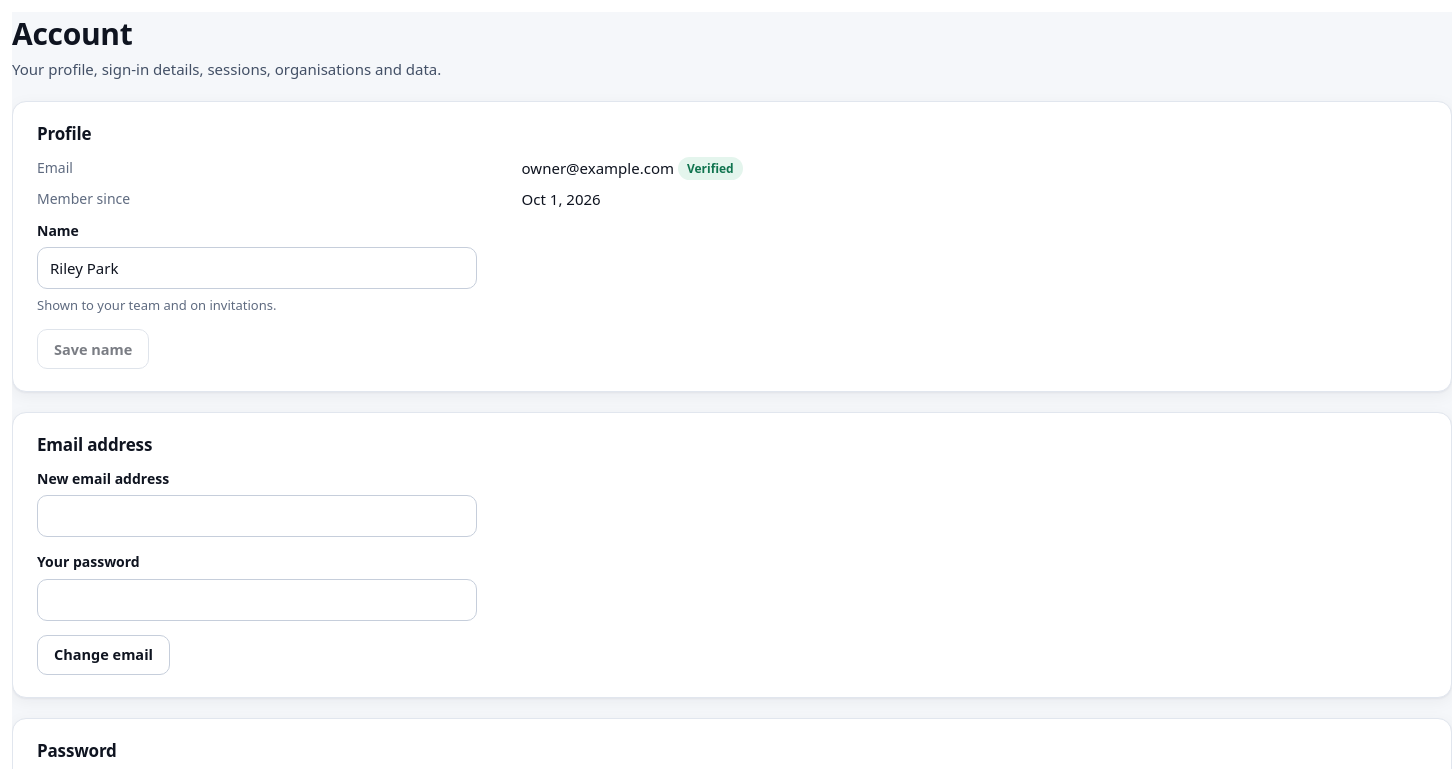
it: account management › changes the email address only after confirmation from the new address; explains a wrong password
The image size is (1452, 769).
Type "owner@example.com" into the field labelled "New email address" at coordinates (257, 516), box [37,496,477,538]
Type "x" into the password field labelled "Your password" at coordinates (257, 600), box [37,579,477,621]
Click the button "Change email" at coordinates (104, 655), box [37,635,170,675]
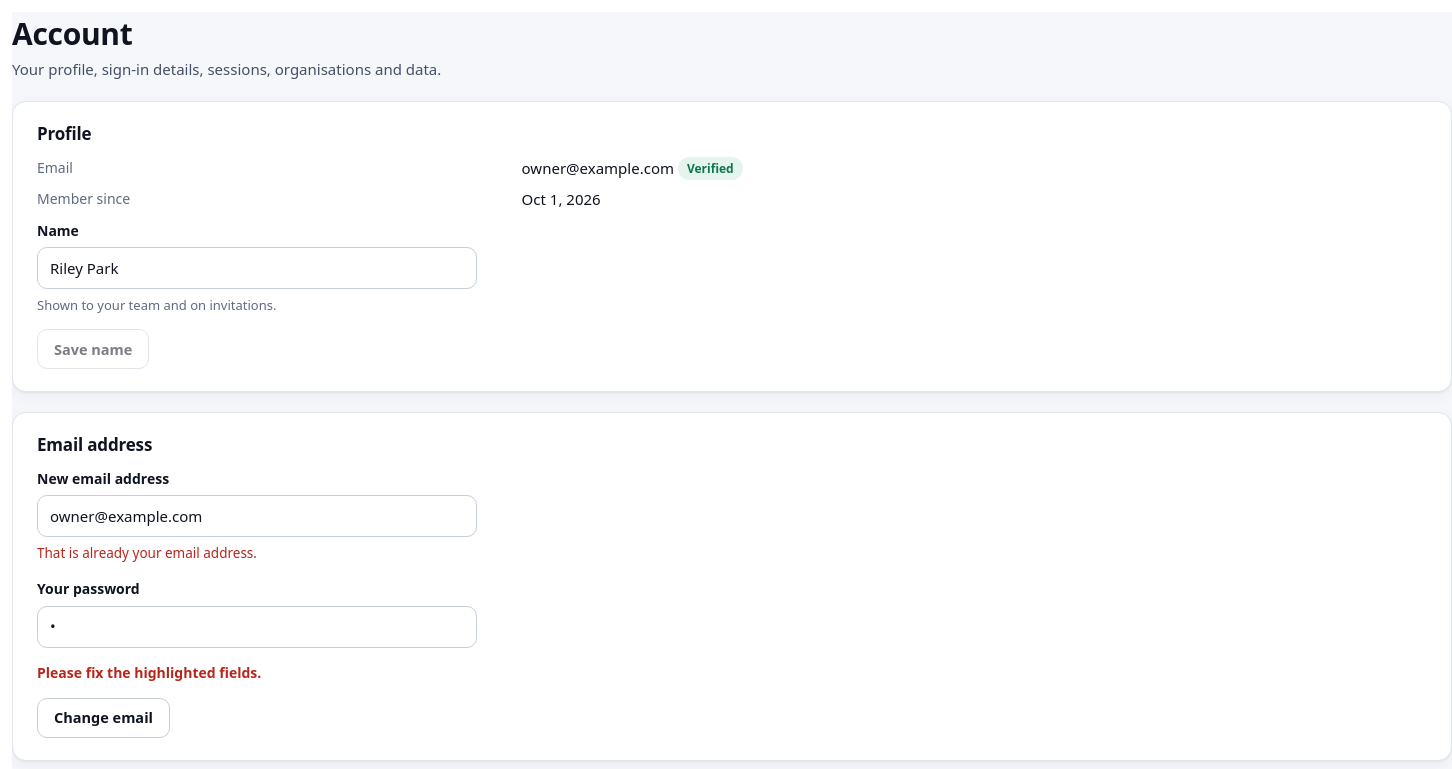
expect the text "That is already your email address." is shown: met, box [37,544,257,562]
Replace the text in the field labelled "New email address" with "riley@studio.example" at coordinates (257, 516), box [37,496,477,538]
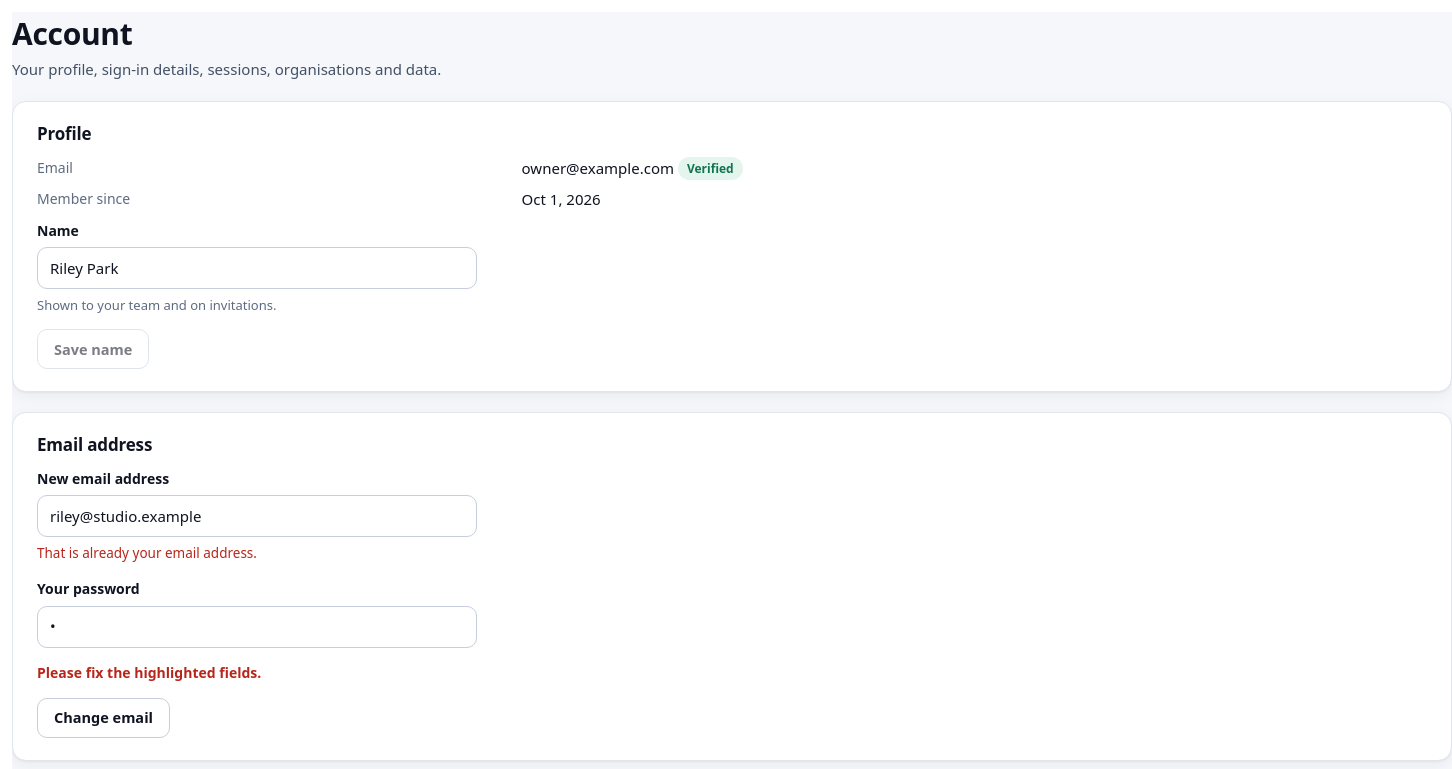
Type "not my password" into the password field labelled "Your password" at coordinates (257, 627), box [37,606,477,648]
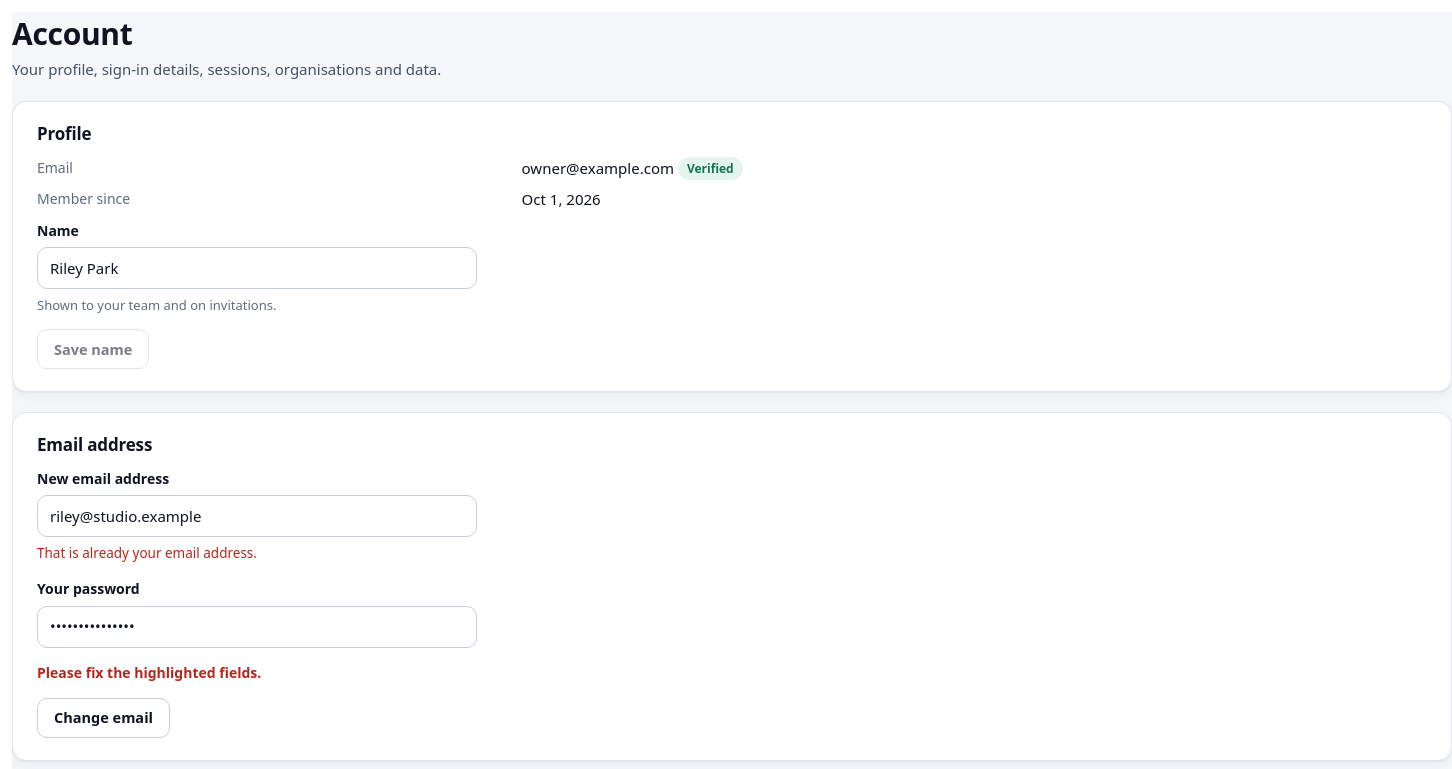
Click the button "Change email" at coordinates (104, 718), box [37,698,170,738]
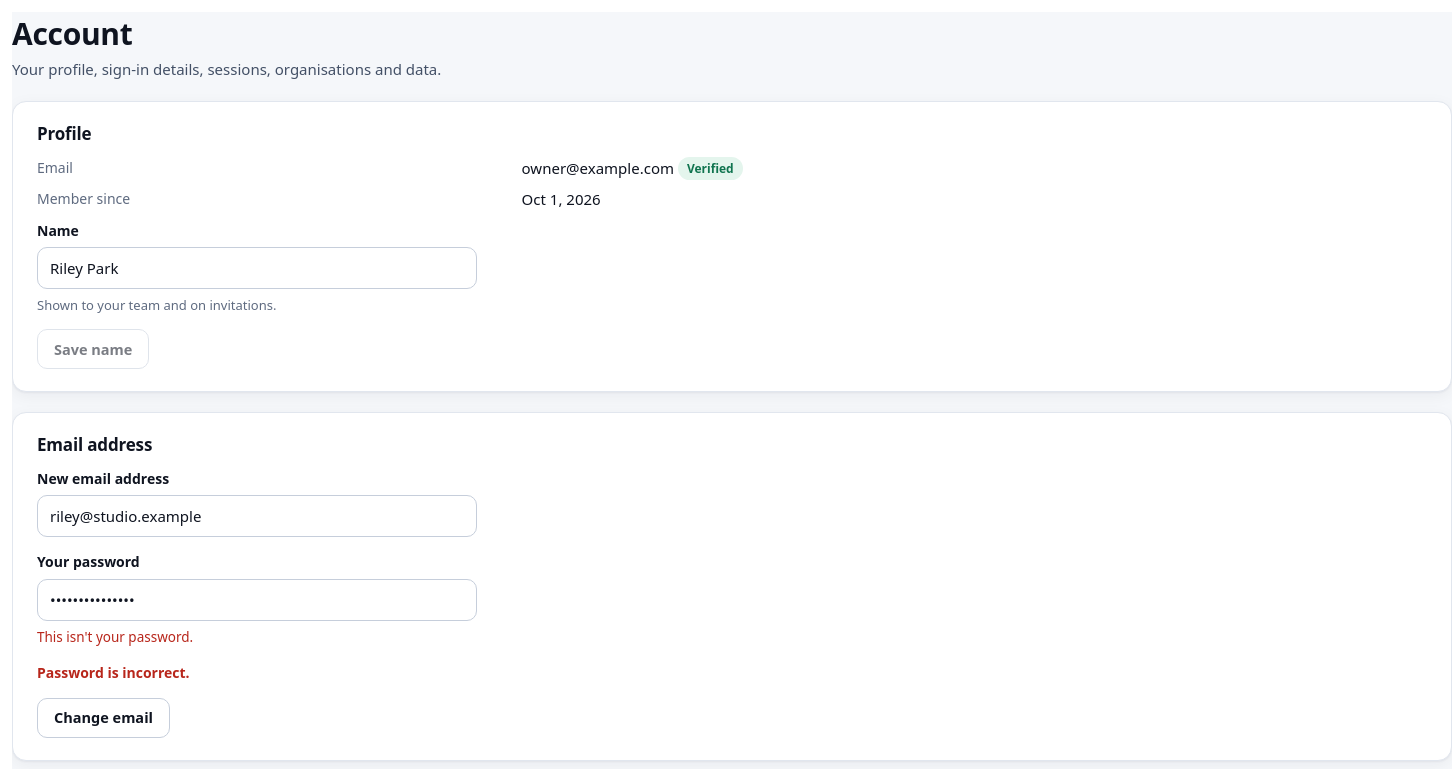
expect the text "This isn't your password." is shown: met, box [37,628,193,646]
Type "correct horse battery" into the password field labelled "Your password" at coordinates (257, 600), box [37,579,477,621]
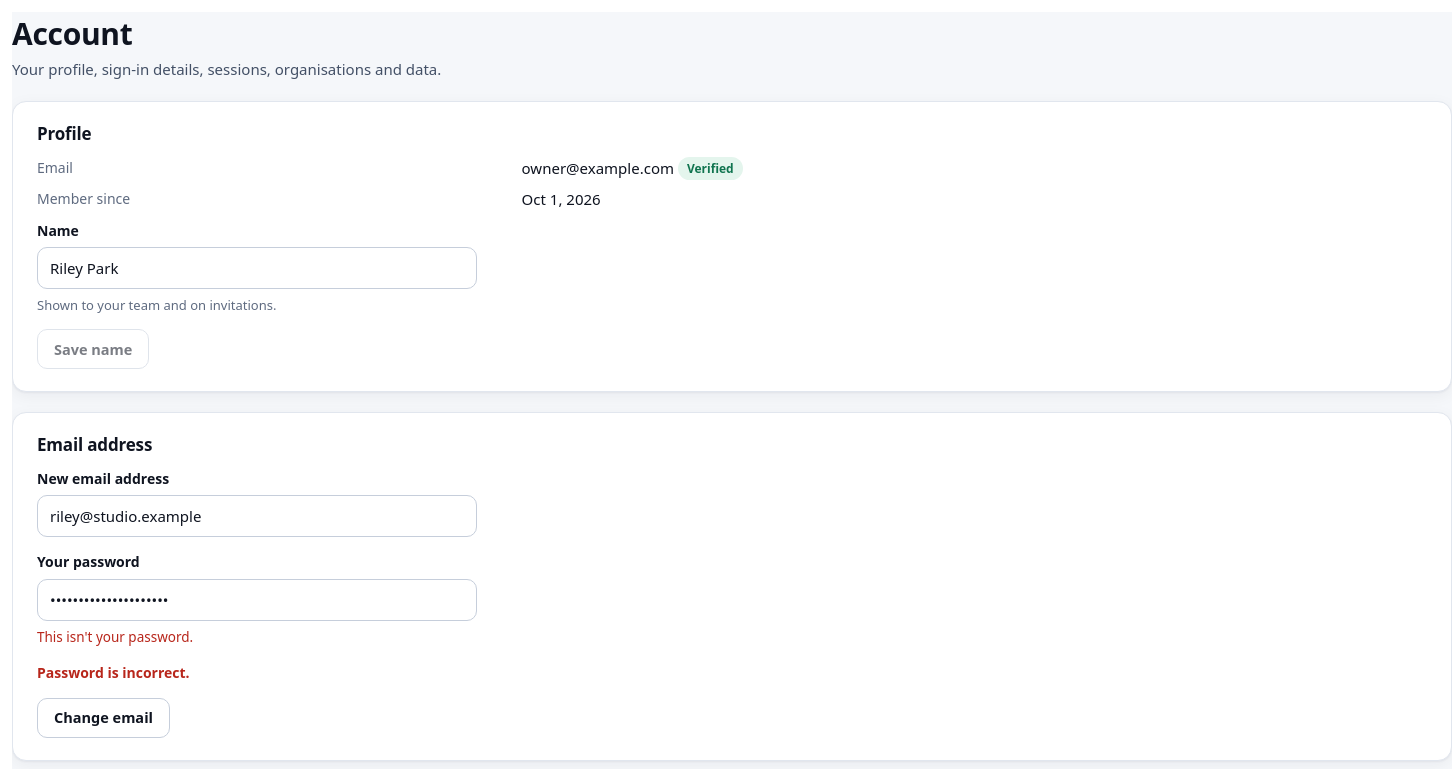
Click the button "Change email" at coordinates (104, 718), box [37,698,170,738]
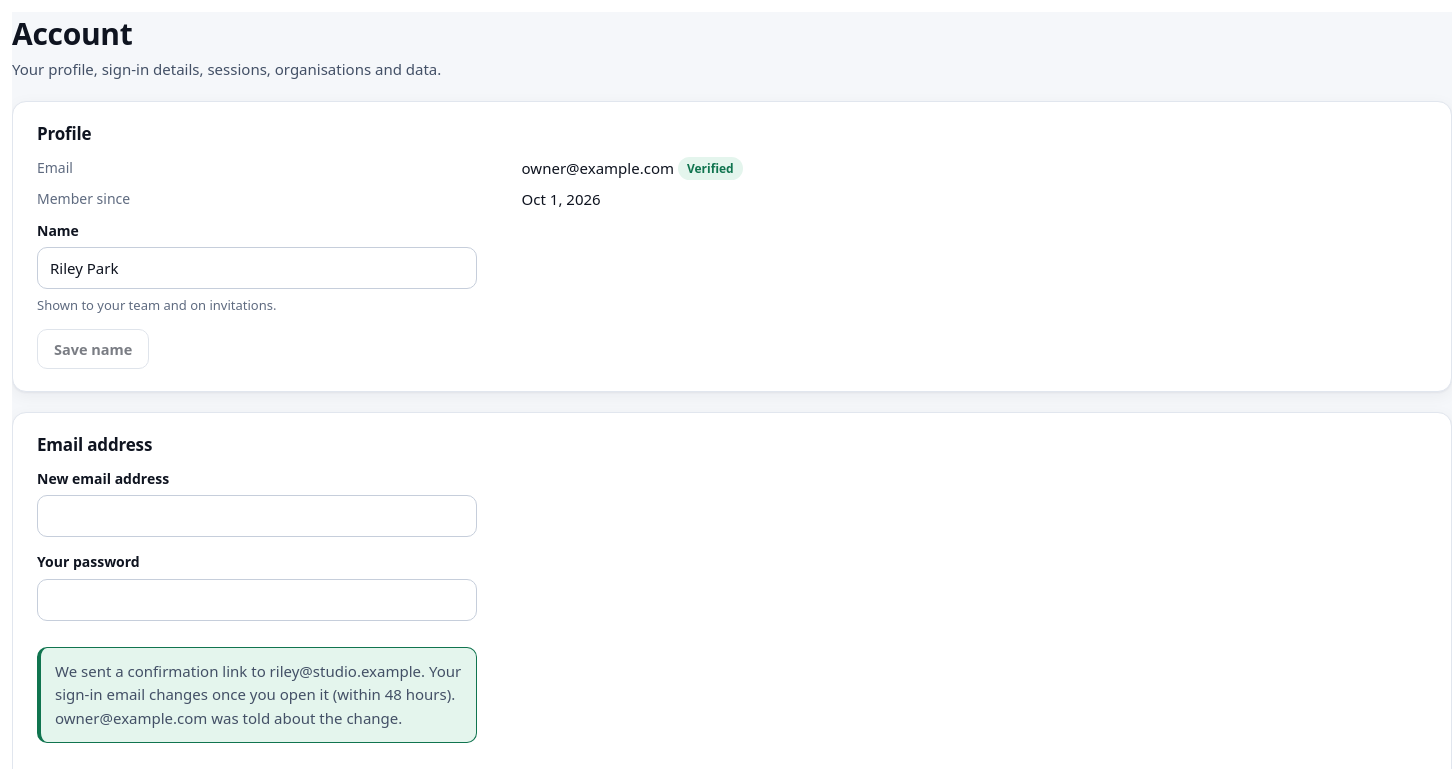
expect the text "We sent a confirmation link to riley@studio.example" is shown: met, box [55,660,462,730]
